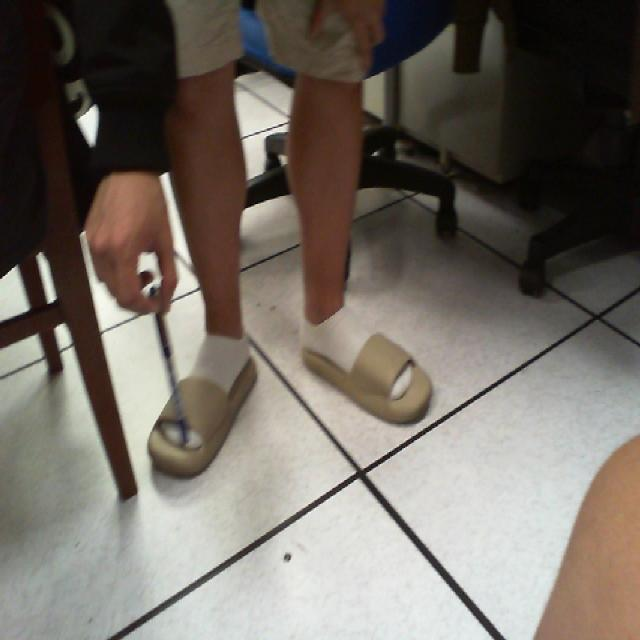Pen: (136, 282, 200, 466)
